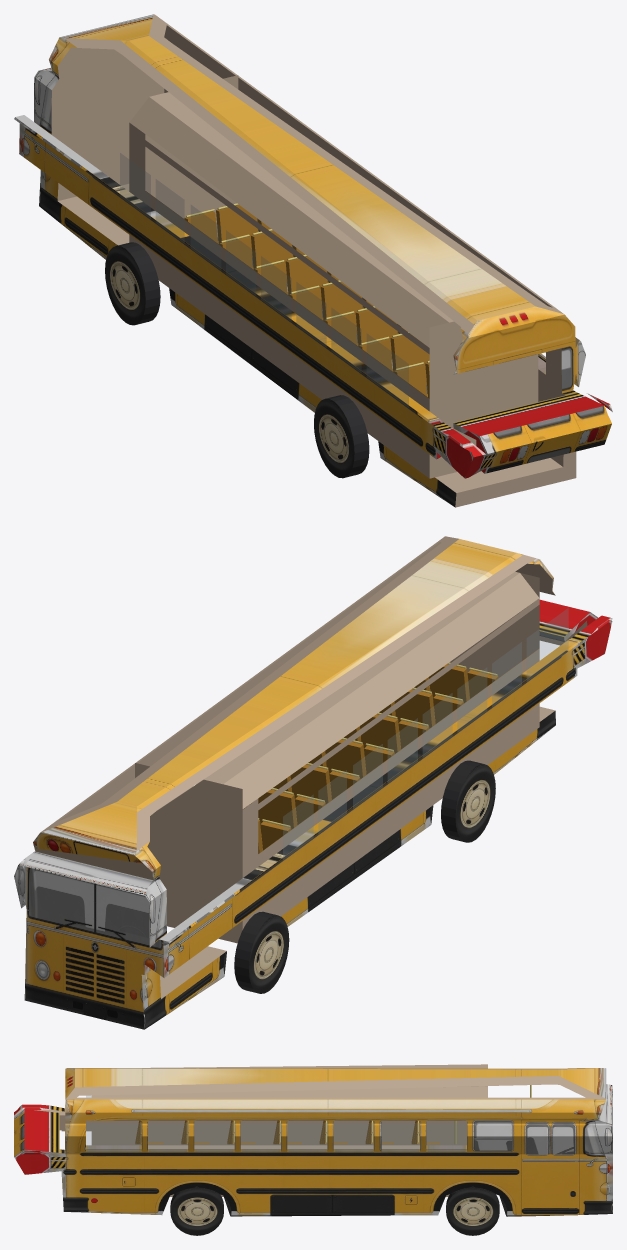
Rendered from school_bus.glb.
3 views of the same model, one above another, from view 1: azimuth 30°, elevation 25°; view 2: azimuth 150°, elevation 25°; view 3: azimuth 270°, elevation 25° (orthographic). The views are drawn at different scales.
Parts seen in each view (by area): view 1: school_bus, school_bus_interior, wheel_FL, wheel_BL; view 2: school_bus, school_bus_interior, wheel_FL, wheel_BL; view 3: school_bus, school_bus_interior, wheel_FR, wheel_BR.
Part boxes in pixels (x1=…): school_bus: x1=14, y1=14, x2=612, y2=507; school_bus_interior: x1=120, y1=75, x2=545, y2=478; wheel_FL: x1=105, y1=242, x2=160, y2=325; wheel_BL: x1=314, y1=395, x2=369, y2=478; school_bus: x1=14, y1=536, x2=612, y2=1029; school_bus_interior: x1=135, y1=571, x2=568, y2=943; wheel_FL: x1=234, y1=911, x2=289, y2=993; wheel_BL: x1=441, y1=760, x2=495, y2=842; school_bus: x1=14, y1=1068, x2=612, y2=1216; school_bus_interior: x1=86, y1=1064, x2=531, y2=1196; wheel_FR: x1=446, y1=1186, x2=499, y2=1235; wheel_BR: x1=170, y1=1186, x2=223, y2=1235.
Bounding box in the file's own units: 2.46 × 3.16 × 11.97.
10 materials, 1 textured.
